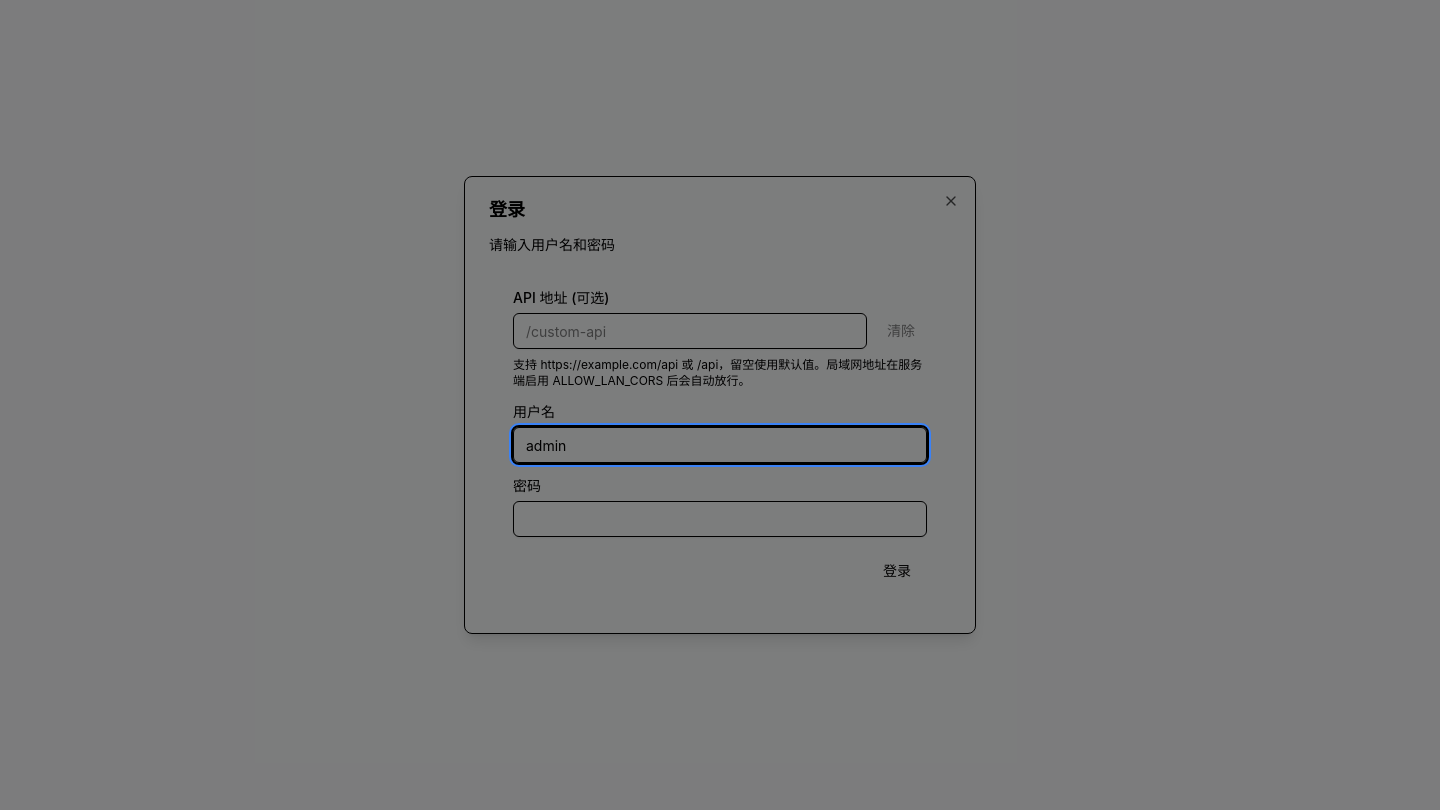
Test: WebLoginDialog › shows validation error when password is empty
Click the button "登录": (897, 571) 867,553 -> 927,589
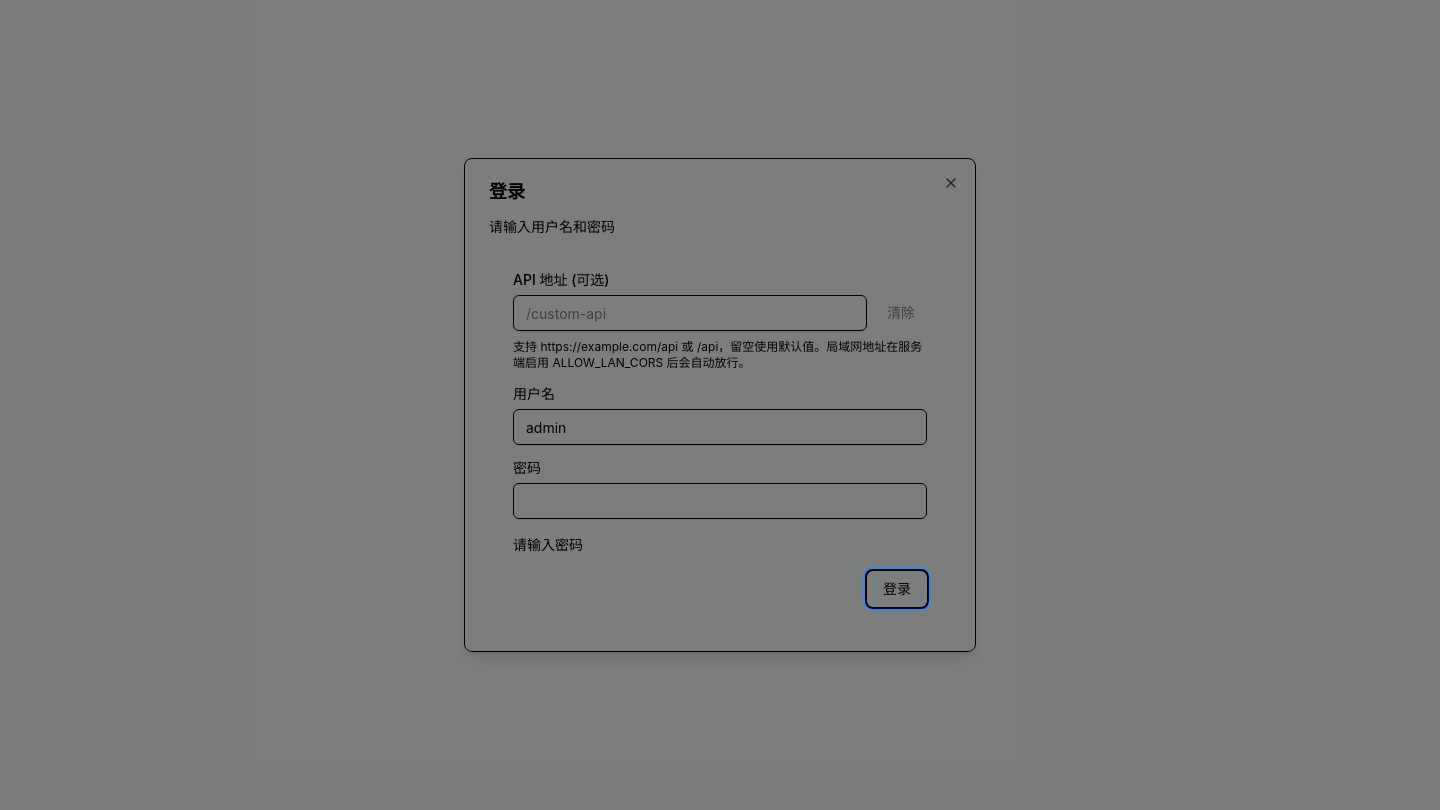
Check: the text "请输入密码" is shown, box 513,536 -> 583,553
